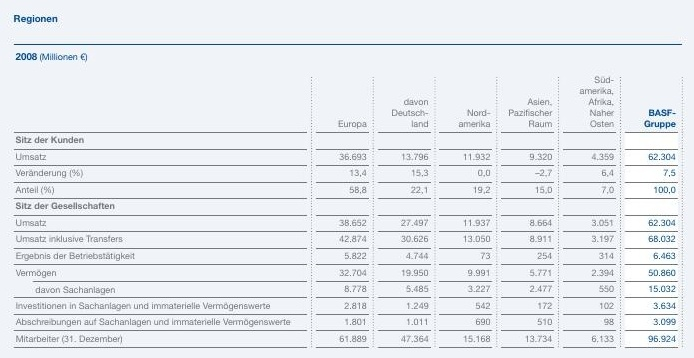table: (0, 0, 694, 358)
